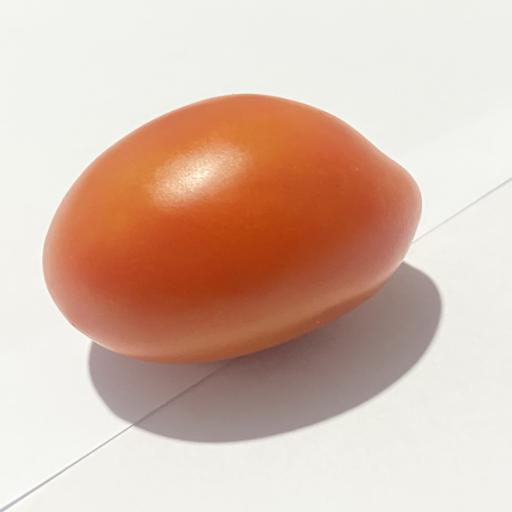ripe: (42, 94, 421, 363)
